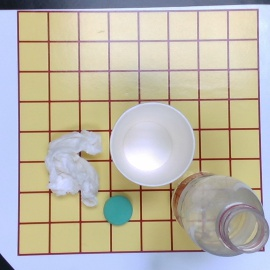cup: (108, 102, 195, 188)
green: (103, 195, 133, 226)
